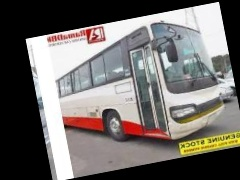bus: (48, 13, 231, 158)
